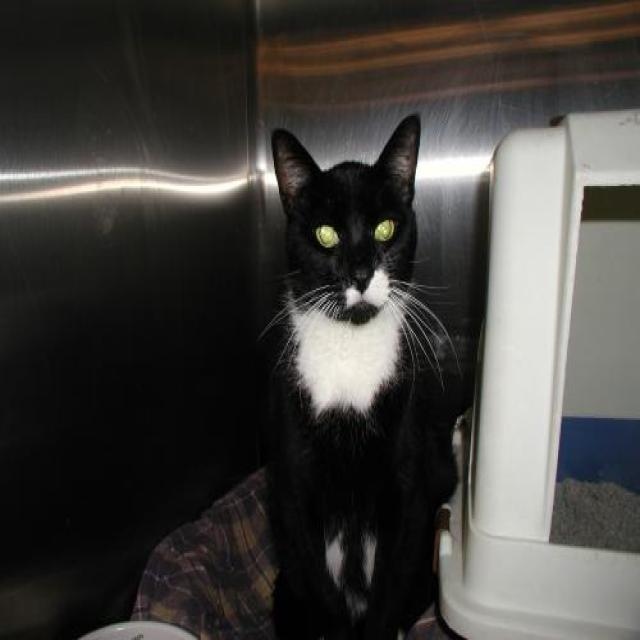Cats: (258, 111, 468, 638)
